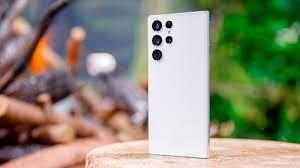Smartphone: (145, 6, 210, 161)
